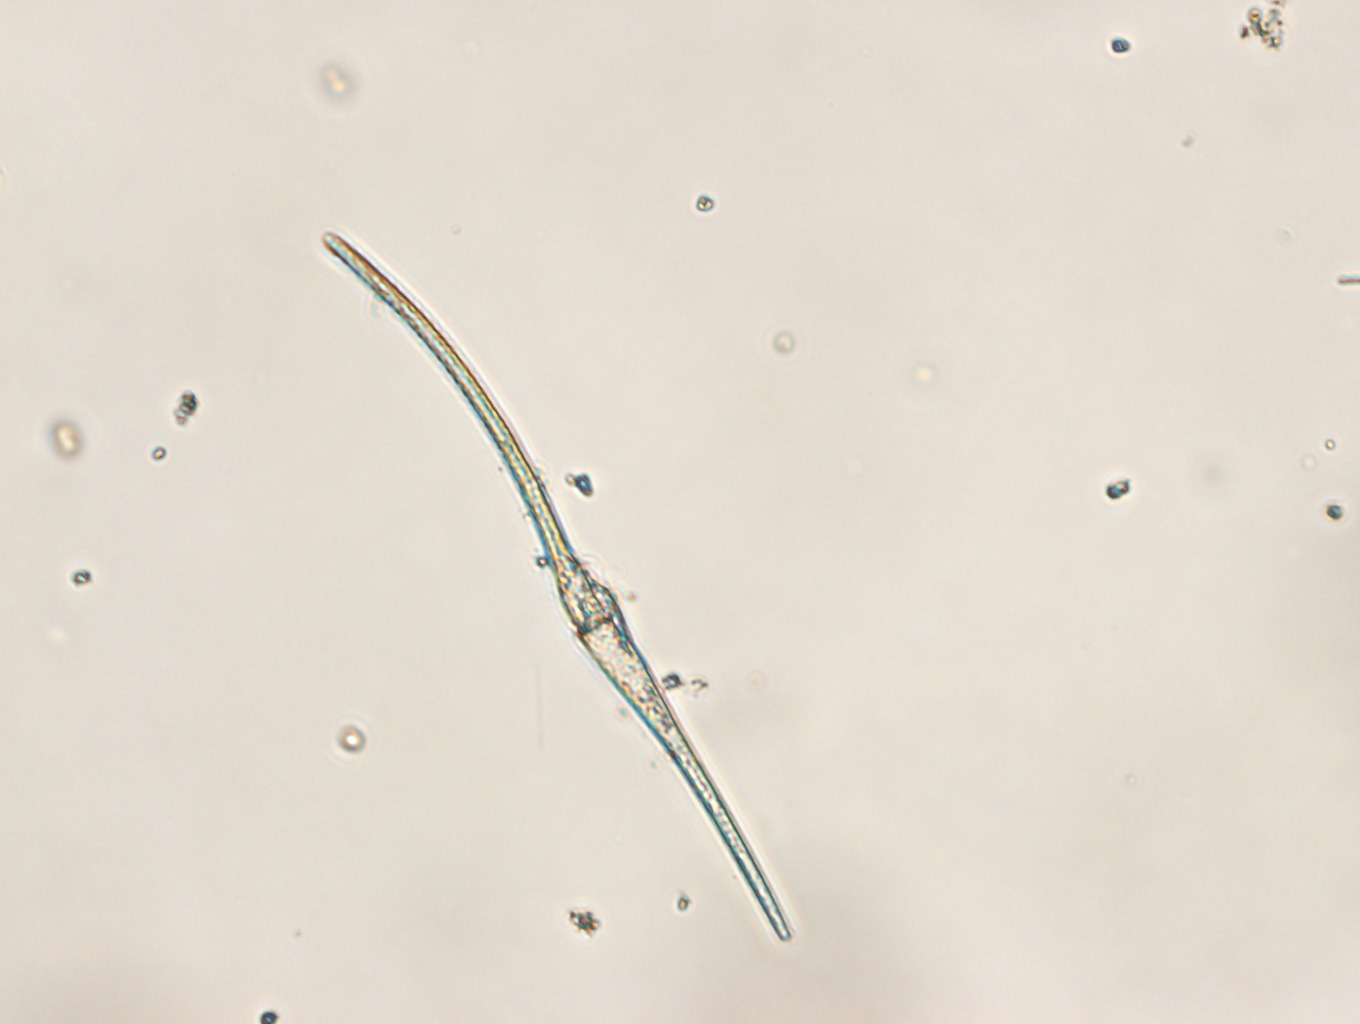ceratium fusus: (323, 228, 791, 944)
